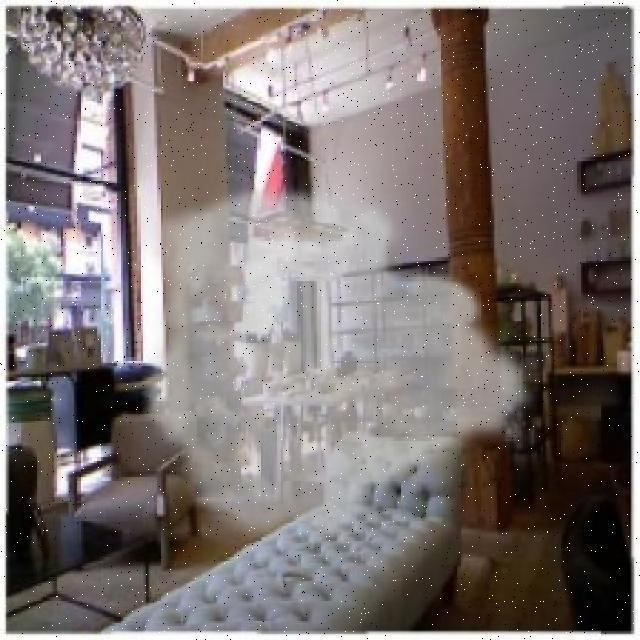smoke: (175, 183, 537, 528)
